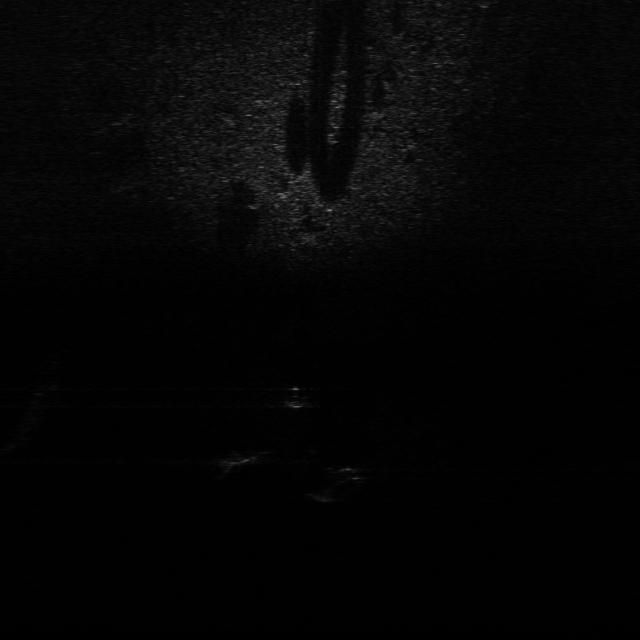ball: (280, 380, 316, 410)
square cage: (214, 443, 276, 476)
tyre: (310, 462, 370, 502)
